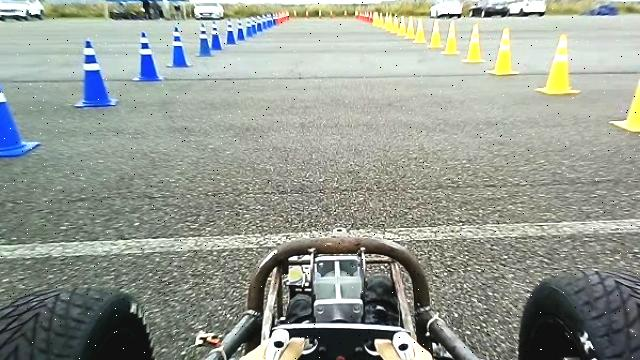blue cone: (0, 57, 41, 157), (72, 39, 118, 107), (131, 31, 163, 81), (165, 26, 193, 68), (196, 22, 213, 57)
yellow cone: (534, 34, 580, 94), (609, 45, 640, 132), (486, 27, 518, 75), (462, 24, 485, 62), (440, 20, 460, 55)
